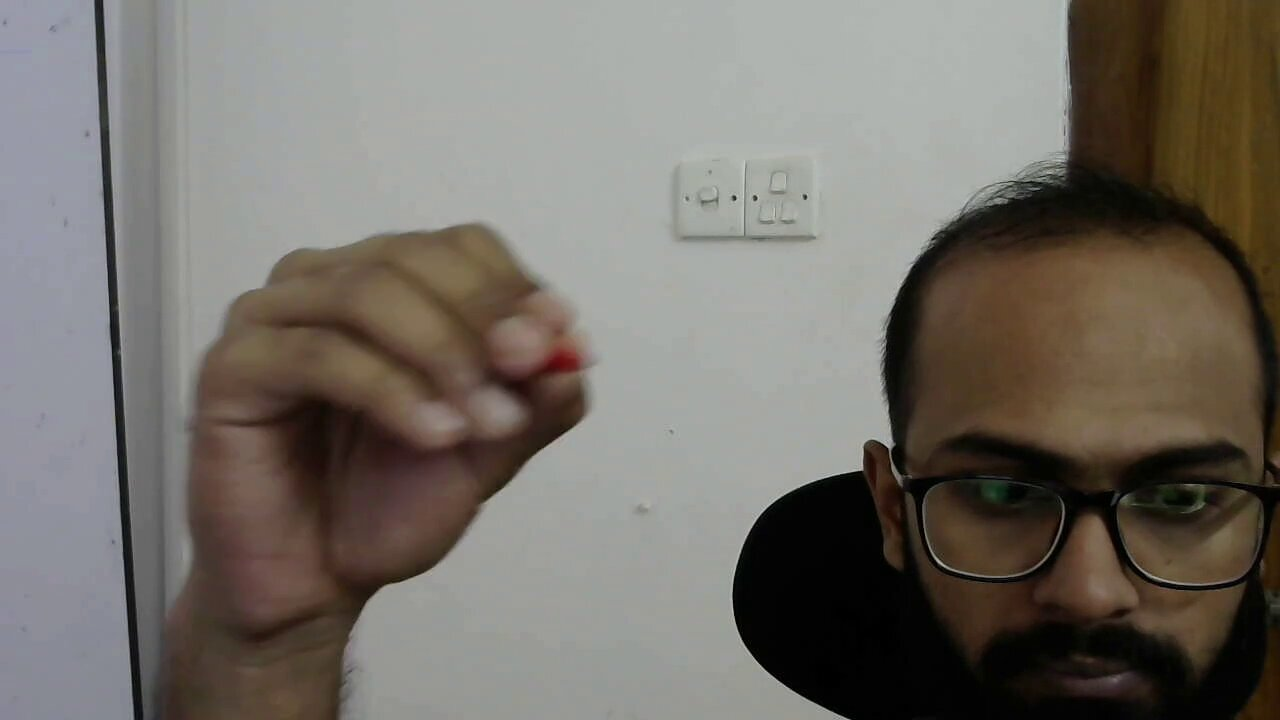pointer: (191, 219, 599, 544)
